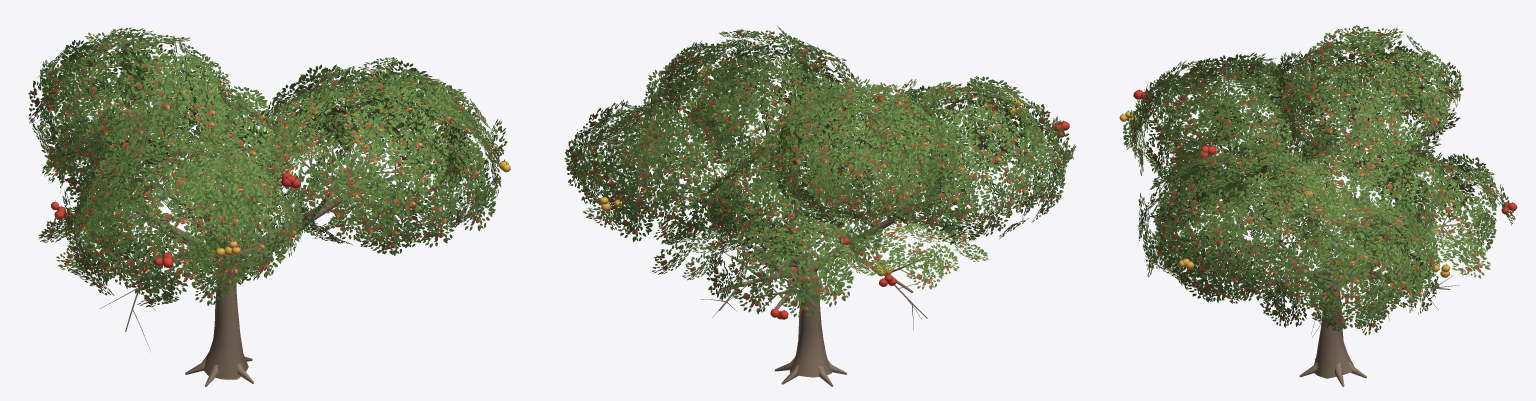
File: eco_tree_apple_a_LOD0.glb
3 views of the same model, side by side, from view 1: azimuth 30°, elevation 25°; view 2: azimuth 150°, elevation 25°; view 3: azimuth 270°, elevation 25° (orthographic). The views are drawn at different scales.
Visible parts, largest first — view 1: eco_tree_apple_a_LOD0; view 2: eco_tree_apple_a_LOD0; view 3: eco_tree_apple_a_LOD0.
Boxes of the visible parts, x1,y1,x2,y2 form: eco_tree_apple_a_LOD0: [28, 27, 510, 386]; eco_tree_apple_a_LOD0: [564, 25, 1076, 386]; eco_tree_apple_a_LOD0: [1119, 25, 1517, 386].
Size of the model in its own units: 5.63 by 3.85 by 4.54.
Materials: 3 (1 with a texture image).
